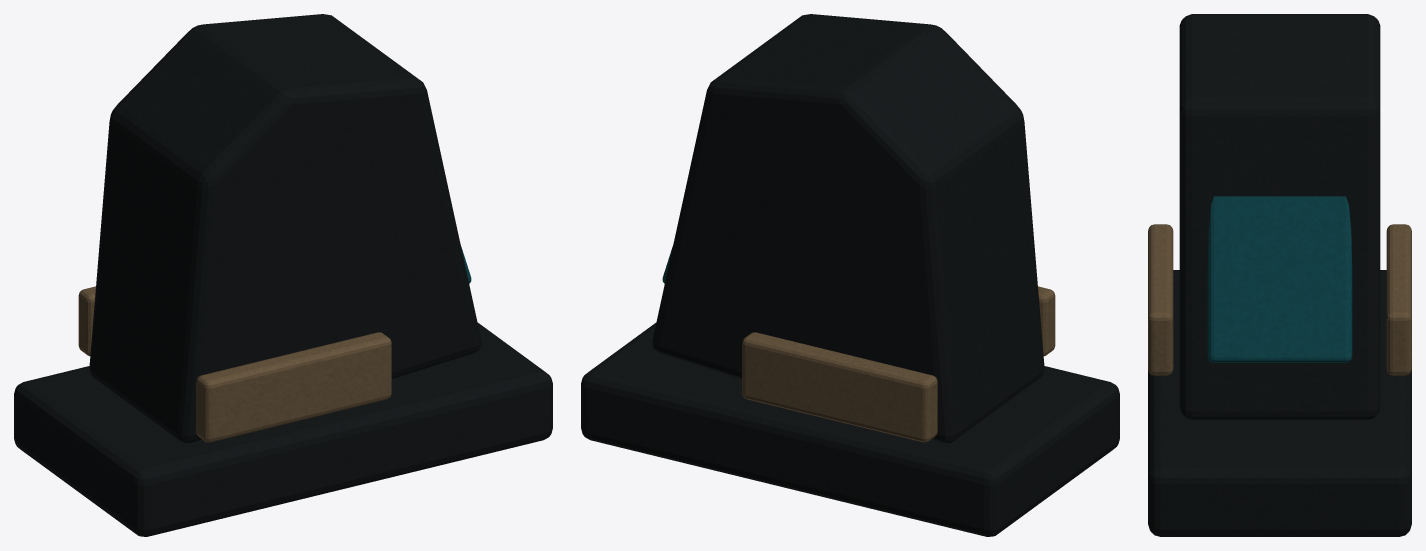
The model's file is shared.optic.reflex.glb.
3 views of the same model, side by side, from view 1: azimuth 30°, elevation 25°; view 2: azimuth 150°, elevation 25°; view 3: azimuth 270°, elevation 25° (orthographic).
Parts seen in each view (by area): view 1: VIS_shared_optic_reflex; view 2: VIS_shared_optic_reflex; view 3: VIS_shared_optic_reflex.
Boxes of the visible parts, bbox=[...] form: VIS_shared_optic_reflex: bbox=[14, 14, 552, 536]; VIS_shared_optic_reflex: bbox=[581, 14, 1119, 536]; VIS_shared_optic_reflex: bbox=[1148, 14, 1411, 536].
Bounding box in the file's own units: 0.078 × 0.0708 × 0.042.
Materials: 3 (3 with a texture image).
